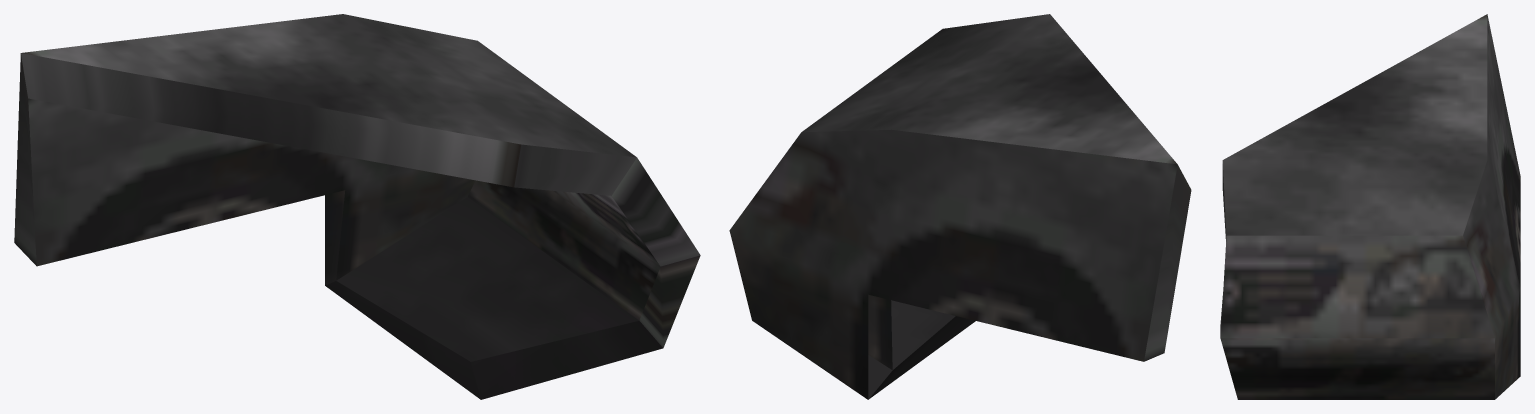
Rendered from Shared - Ground Vehicles - CV Generic x 01 - CVGeneric_x01.glb.
3 renders of one model, left to right at view 1: azimuth 30°, elevation 25°; view 2: azimuth 150°, elevation 25°; view 3: azimuth 270°, elevation 25°, orthographic. The views are drawn at different scales.
Visible parts, largest first — view 1: CVGENERIC_X01; view 2: CVGENERIC_X01; view 3: CVGENERIC_X01.
Part boxes in pixels (left/top/right/bottom): CVGENERIC_X01: left=14, top=14, right=700, bottom=399; CVGENERIC_X01: left=729, top=14, right=1191, bottom=399; CVGENERIC_X01: left=1220, top=14, right=1520, bottom=399.
Bounding box in the file's own units: 5.87 × 3.66 × 4.08.
1 material, 1 textured.
